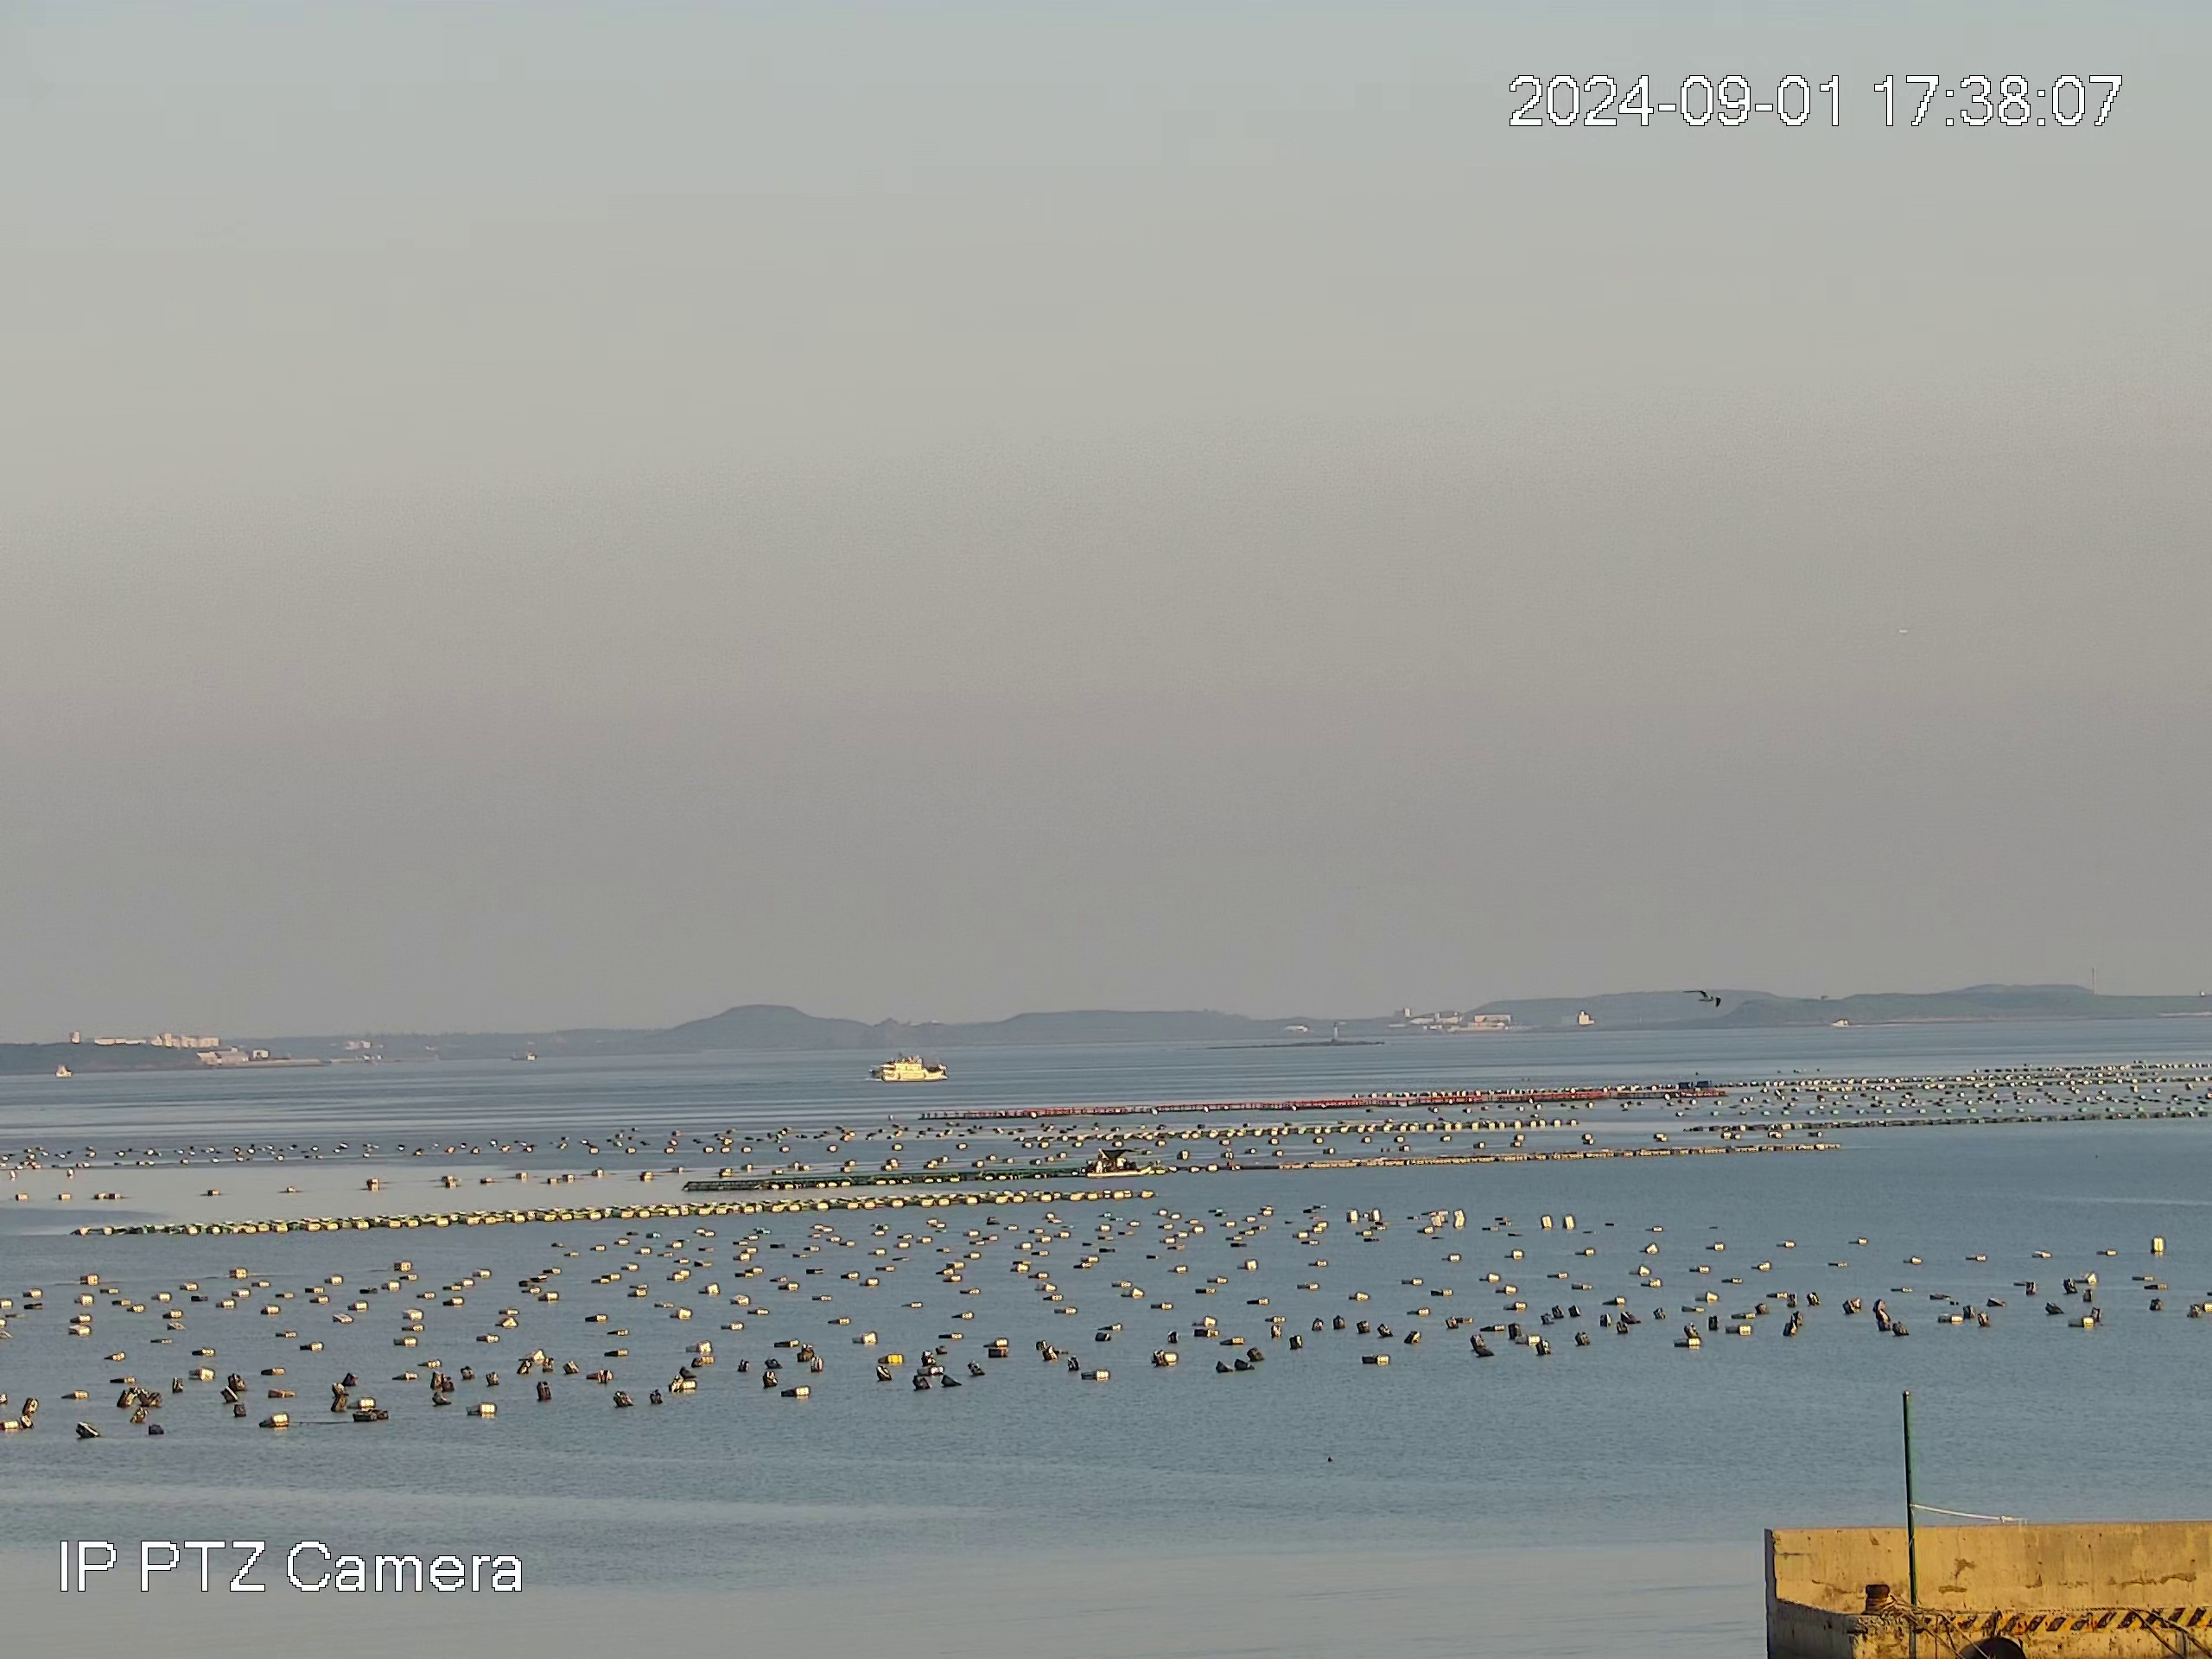boat: (869, 1049, 949, 1082), (1085, 1143, 1153, 1175)
